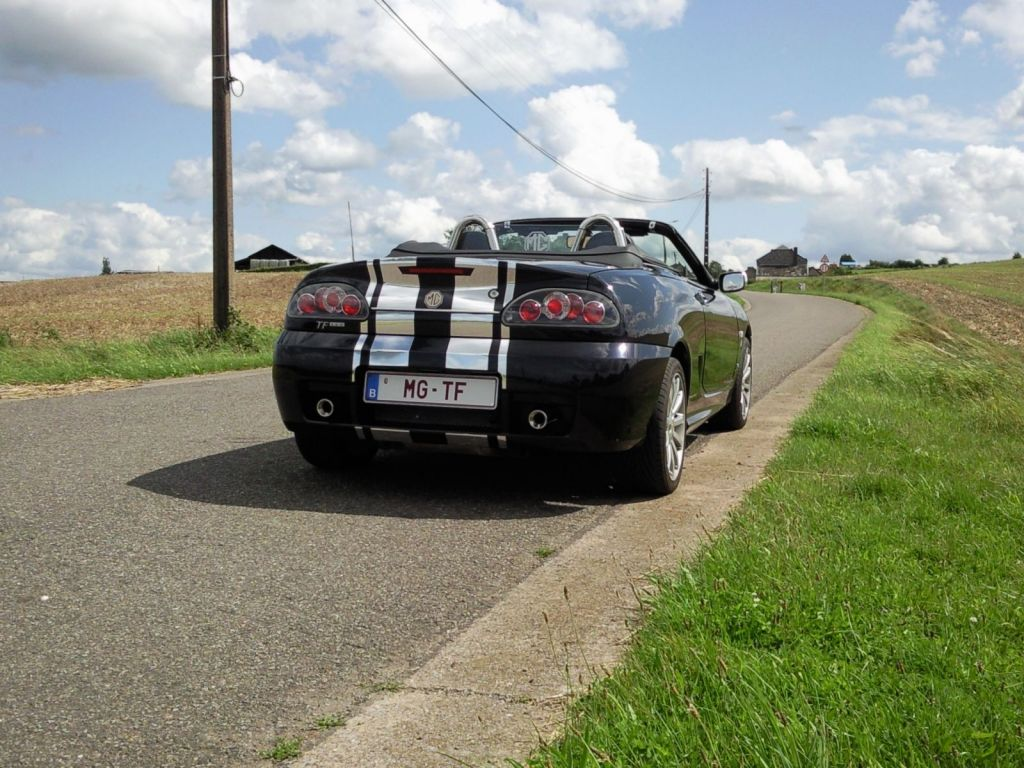licenceplate: (362, 368, 499, 410)
